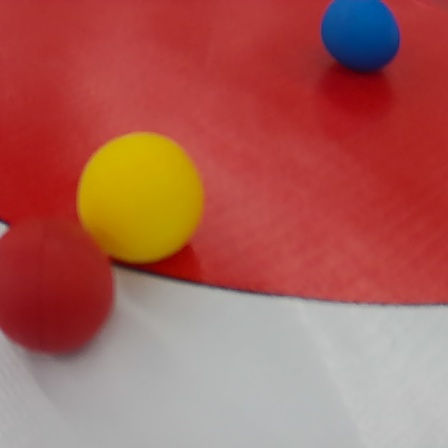blue: (321, 0, 402, 71)
red: (0, 210, 114, 365)
red_base: (0, 0, 447, 308)
yellow: (76, 131, 206, 265)
